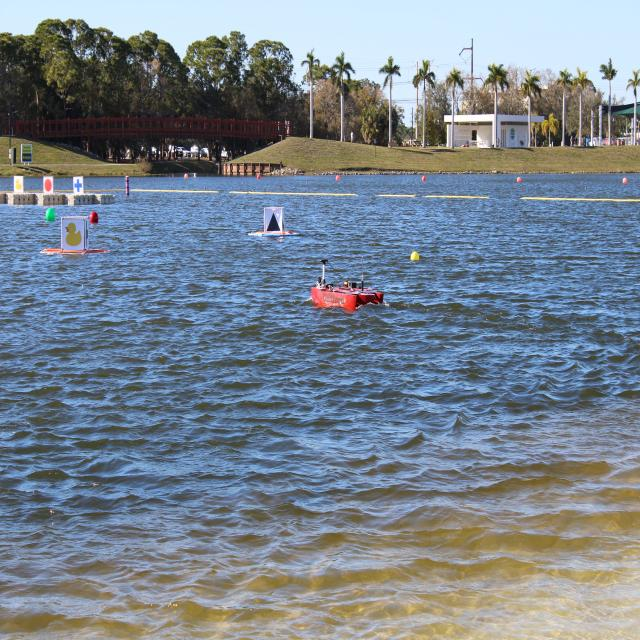blue-cross: (72, 174, 84, 193)
green-buoy: (46, 208, 56, 222)
red-buoy: (91, 210, 100, 223)
red-dot: (44, 174, 55, 196)
yellow-buoy: (411, 250, 421, 261)
yellow-duck: (60, 220, 85, 251), (12, 174, 24, 194)
